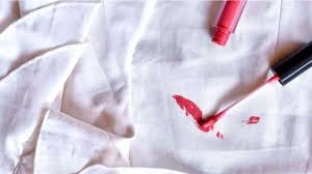lipstick: (170, 95, 207, 125), (196, 116, 217, 136), (245, 113, 261, 127), (218, 131, 227, 139)
